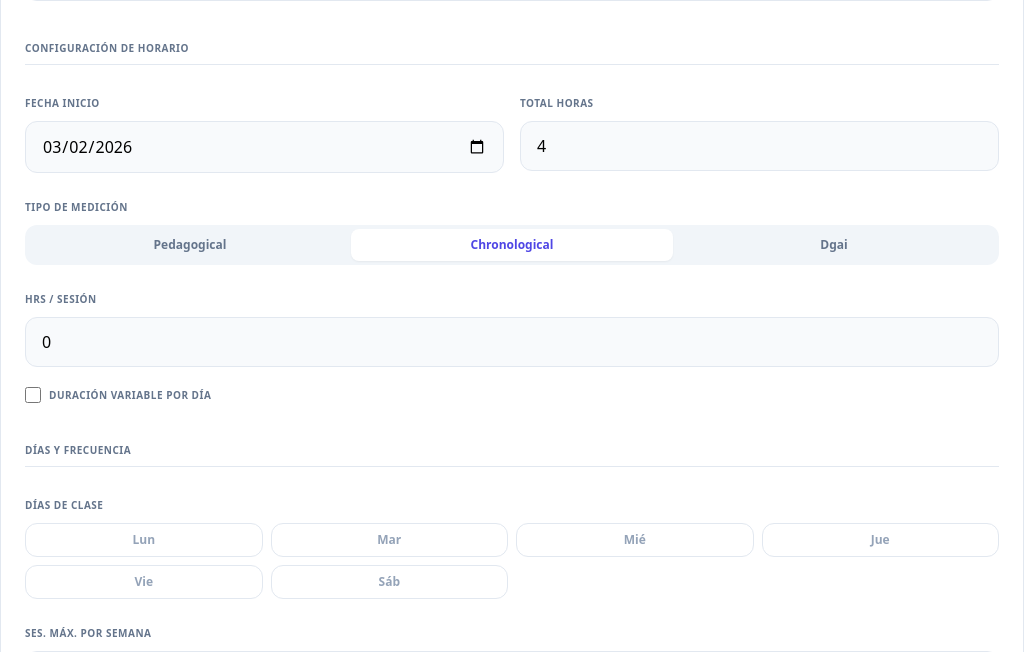
Test: CourseForm — inline validation (CORT-01) › hoursPerSession: error appears after blur with value 0 (D-01)
(page scrolled)
Step 1. Click the number field named "HRS / SESIÓN" → (512, 342), box [25,317,999,367]
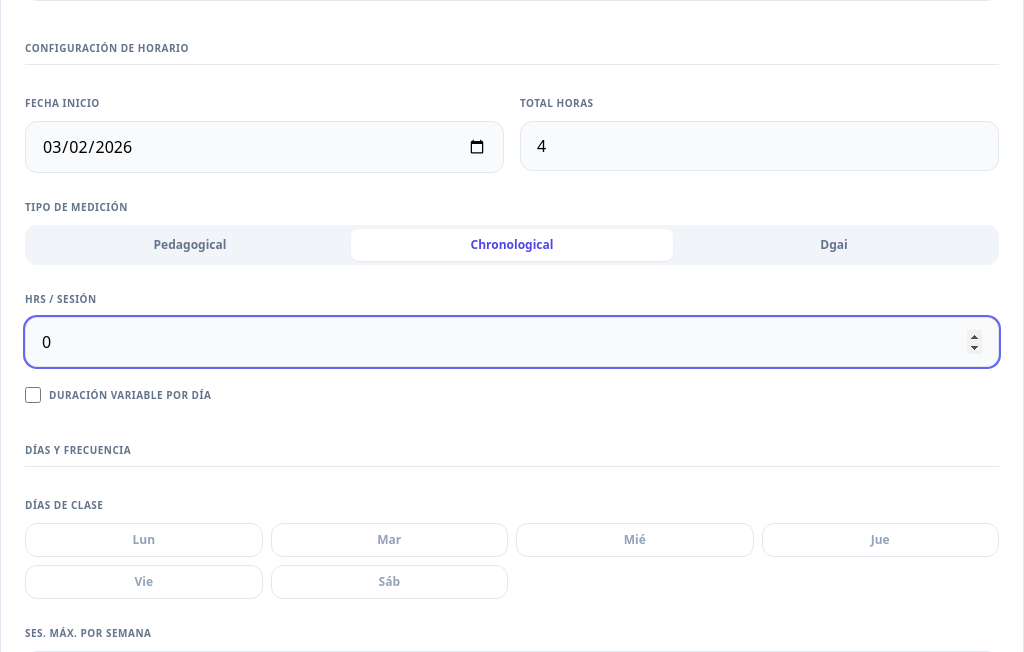
Step 2. Press Tab
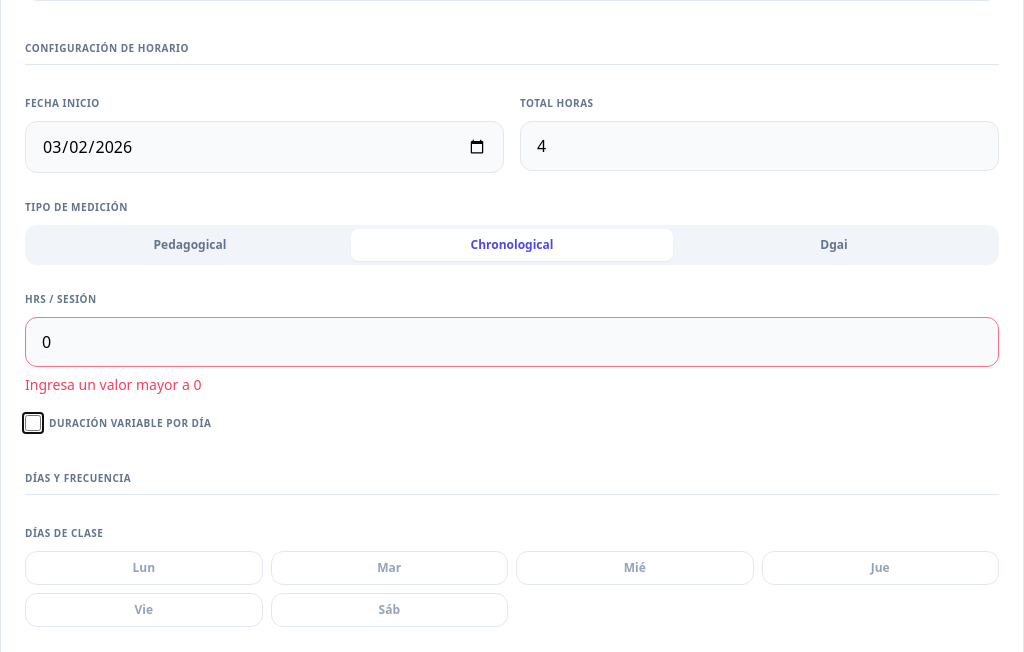
Check: the text "Ingresa un valor mayor a 0" is shown, box [25,375,202,394]
